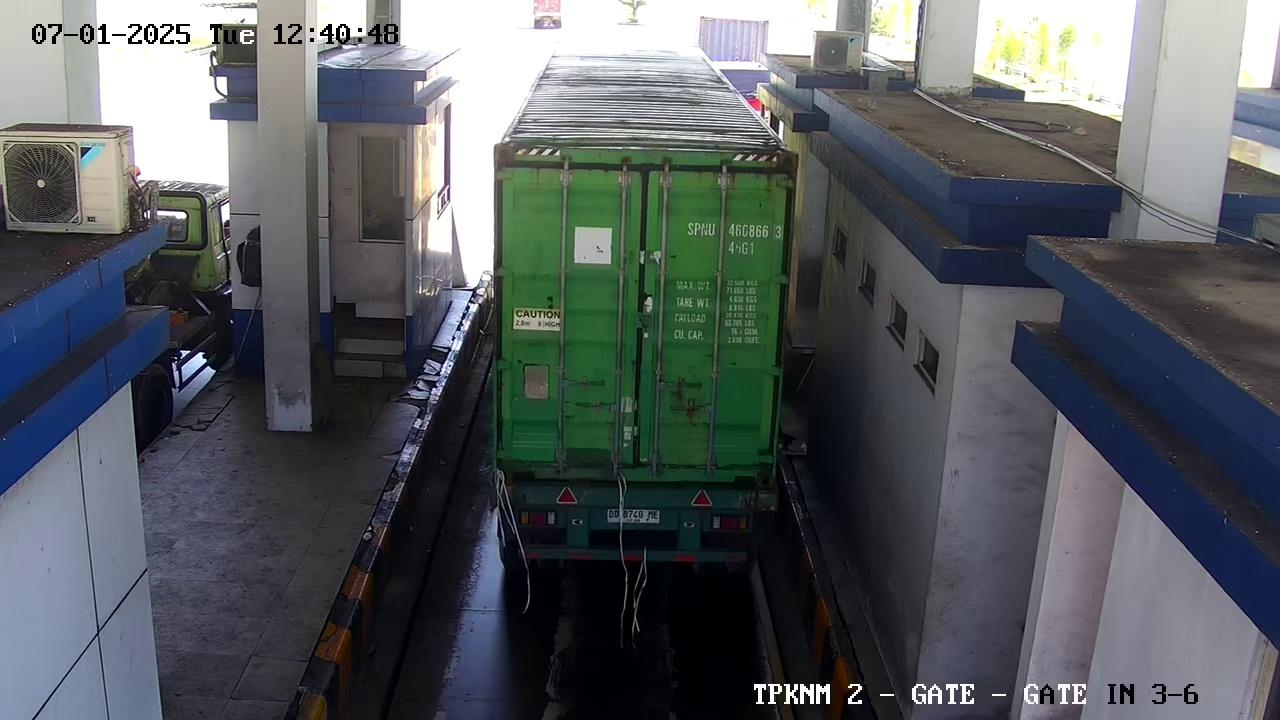Container_ID: (655, 211, 790, 242)
plate_number: (598, 502, 664, 531)
